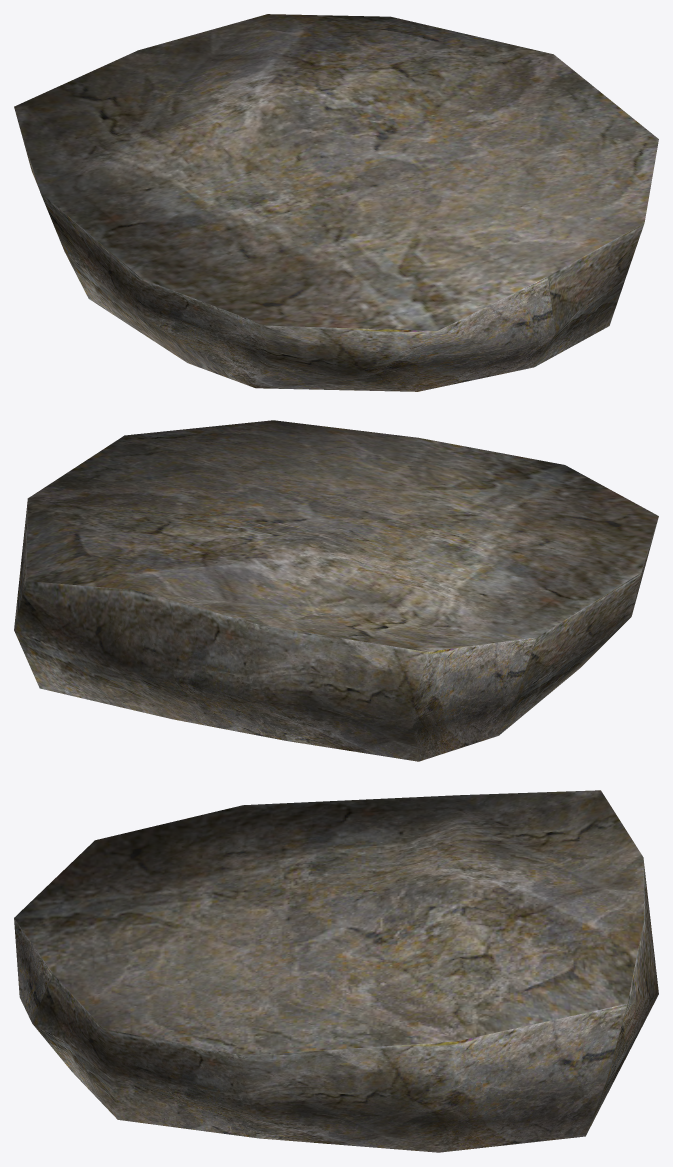
The model's file is Stone-03.fbx.
3 renders of one model, top to bottom at view 1: azimuth 30°, elevation 25°; view 2: azimuth 150°, elevation 25°; view 3: azimuth 270°, elevation 25°, orthographic. The views are drawn at different scales.
Visible parts, largest first — view 1: Stone-03; view 2: Stone-03; view 3: Stone-03.
Boxes of the visible parts, x1,y1,x2,y2 form: Stone-03: (14,14,658,391); Stone-03: (14,420,658,761); Stone-03: (14,790,658,1152).
Bounding box in the file's own units: 757 × 237 × 783.
